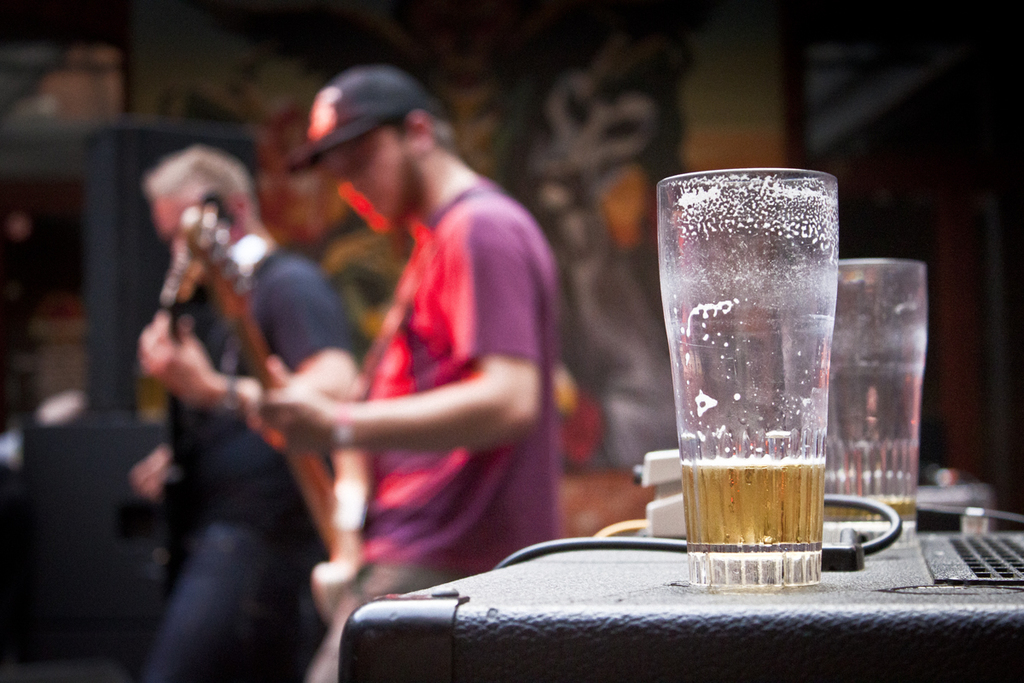Beer: (682, 451, 824, 553), (817, 490, 915, 526)
